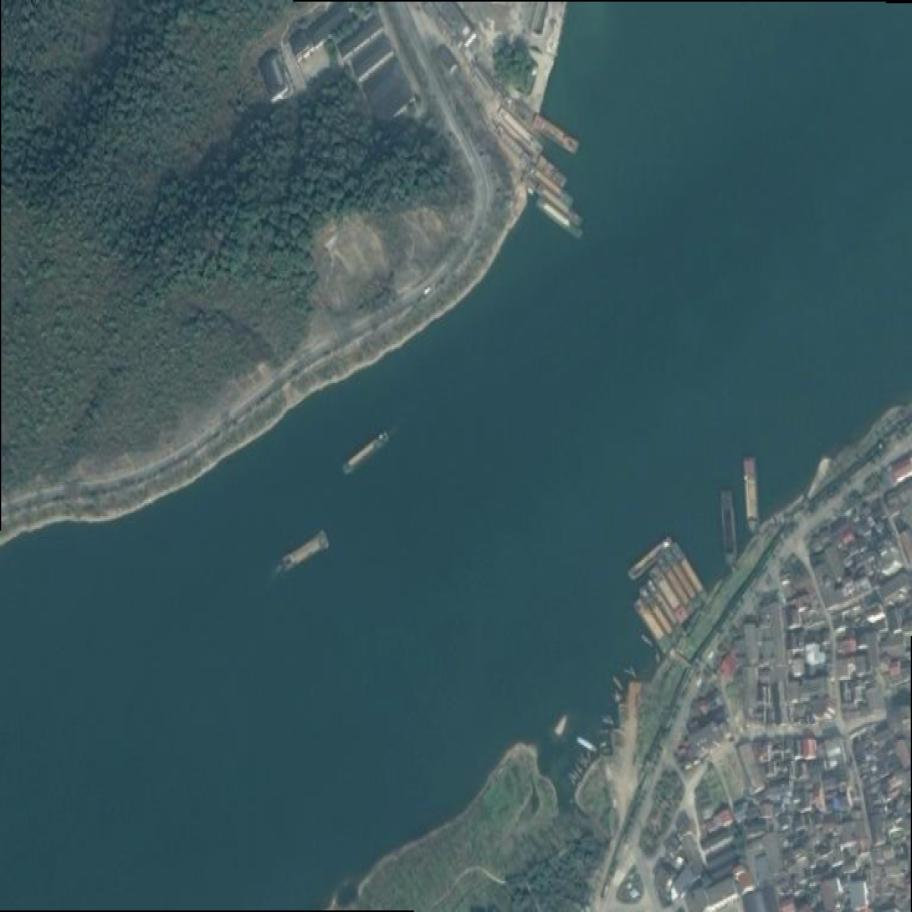ship: (649, 565, 691, 626), (662, 550, 703, 612), (658, 554, 697, 618), (669, 544, 710, 604), (646, 578, 685, 640), (278, 531, 332, 574), (640, 589, 680, 646), (532, 114, 584, 156), (627, 537, 674, 583), (634, 599, 673, 654), (342, 432, 391, 474), (533, 182, 579, 224), (536, 197, 583, 237), (528, 167, 576, 206), (721, 490, 737, 564), (535, 156, 572, 187), (746, 459, 758, 531), (551, 708, 573, 740), (577, 736, 599, 753), (612, 675, 627, 693)
